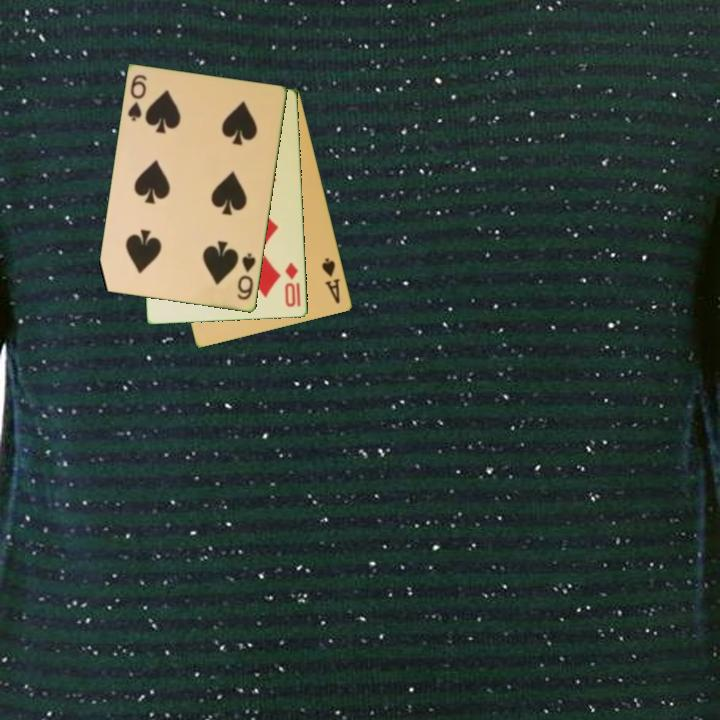10d: (282, 259, 304, 310)
6s: (234, 250, 259, 303), (125, 71, 149, 124)
As: (319, 254, 343, 307)
